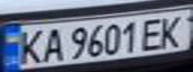0: (103, 20, 124, 56)
1: (118, 19, 142, 53)
6: (84, 23, 109, 57)
9: (66, 24, 87, 61)
A: (39, 25, 66, 63)
E: (136, 16, 169, 52)
K: (12, 26, 48, 65), (154, 11, 190, 48)
